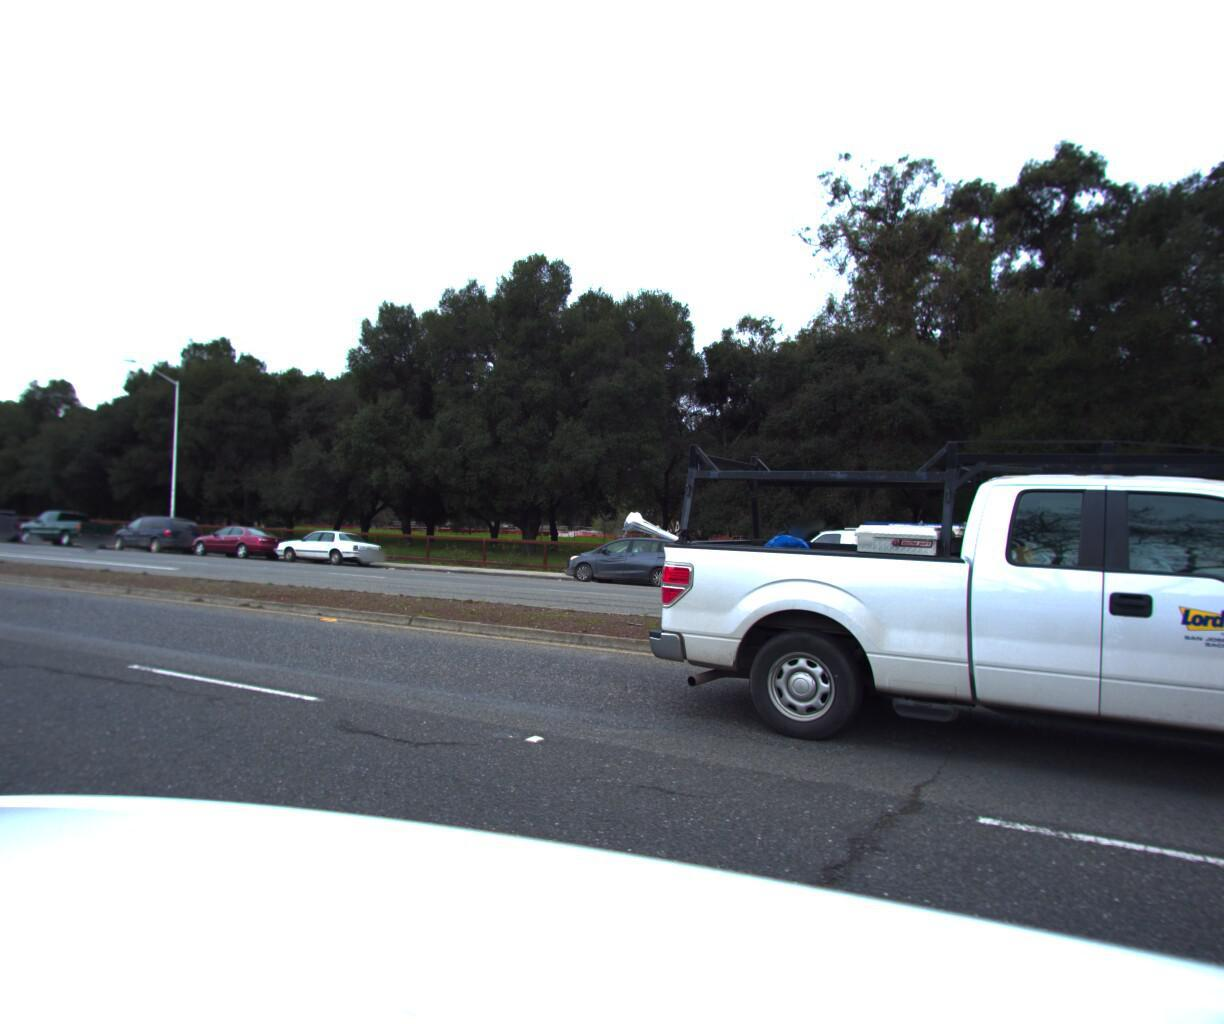car: (607, 397, 1224, 887), (754, 508, 999, 604), (550, 526, 711, 581), (269, 518, 391, 561), (180, 516, 295, 557), (99, 507, 210, 550), (8, 503, 121, 543), (0, 500, 30, 538)
other_vehicle: (1223, 488, 1224, 666)
